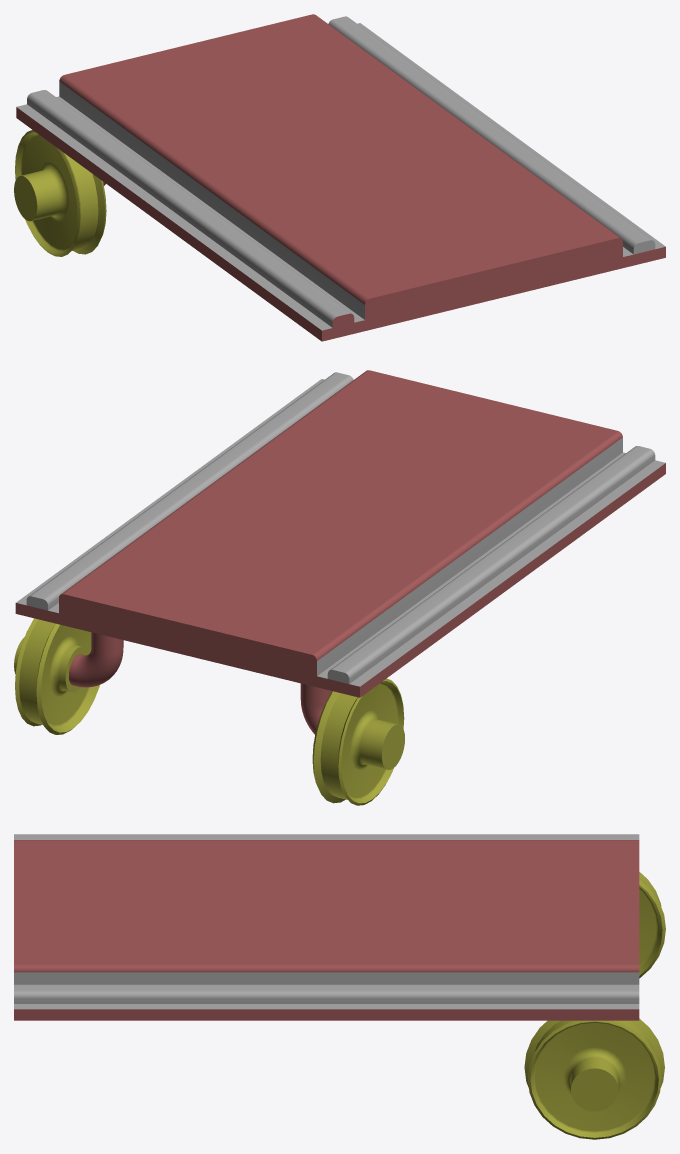
Rendered from freightWagonElevator.fbx.
3 renders of one model, top to bottom at view 1: azimuth 30°, elevation 25°; view 2: azimuth 150°, elevation 25°; view 3: azimuth 270°, elevation 25°, orthographic. The views are drawn at different scales.
Parts seen in each view (by area): view 1: freightWagonElevator2; view 2: freightWagonElevator2; view 3: freightWagonElevator2.
Part boxes in pixels (<box>): freightWagonElevator2: <box>14,14,665,341</box>; freightWagonElevator2: <box>14,370,665,805</box>; freightWagonElevator2: <box>14,834,665,1139</box>.
Bounding box in the file's own units: 171 × 69.17 × 257.
